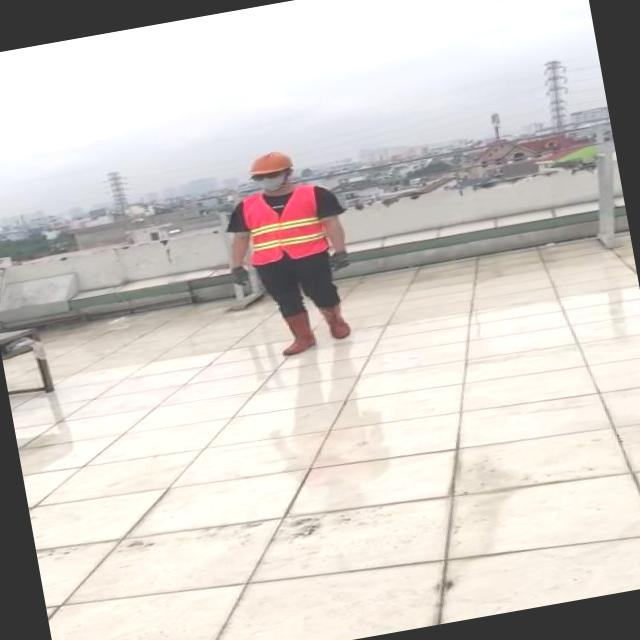boots: (279, 308, 316, 354), (318, 298, 349, 340)
gloves: (326, 248, 352, 274), (226, 262, 252, 288)
helmet: (242, 146, 298, 179)
vest: (237, 182, 328, 266)
